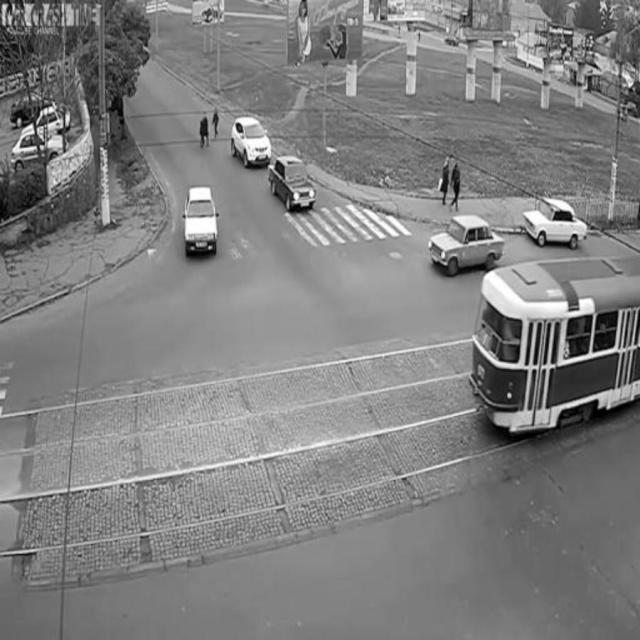person: (196, 102, 212, 154), (439, 149, 454, 204), (450, 156, 464, 206), (211, 104, 223, 146)
vehicle: (481, 257, 639, 437), (432, 211, 503, 281), (528, 195, 588, 251), (266, 151, 322, 209), (180, 184, 217, 252), (11, 131, 72, 167), (230, 117, 272, 167)
